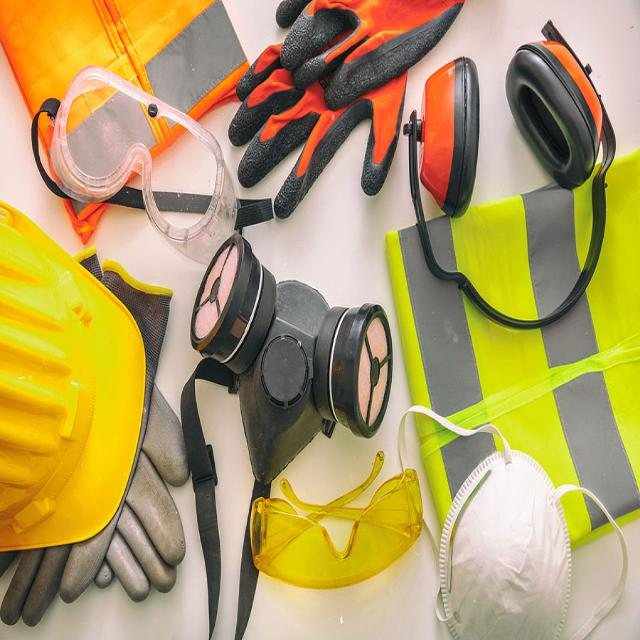Ear Muffs: (506, 27, 605, 191), (417, 56, 482, 216)
Gloves: (232, 44, 412, 224), (274, 0, 463, 109)
Hard Hat: (0, 200, 151, 550)
Reflective Vest: (383, 145, 640, 565), (0, 0, 259, 245)
Safety Glasses: (22, 56, 244, 262), (246, 460, 424, 597)
